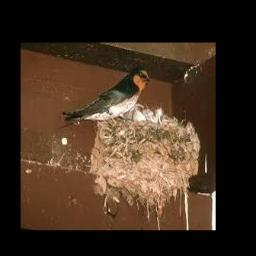Swallow: (62, 67, 150, 122)
